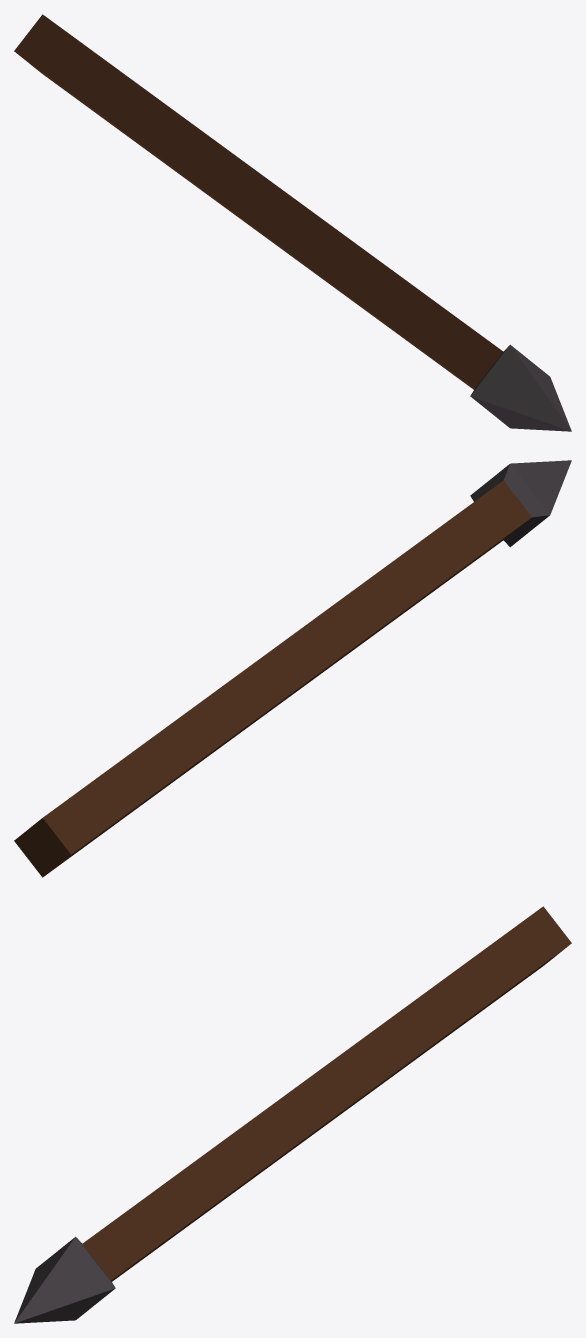
File: CrossbowBolt.fbx
3 views of the same model, one above another, from view 1: azimuth 30°, elevation 25°; view 2: azimuth 150°, elevation 25°; view 3: azimuth 330°, elevation 25° (orthographic).
Visible parts, largest first — view 1: CrossbowBolt; view 2: CrossbowBolt; view 3: CrossbowBolt.
Part boxes in pixels (box(x1,y1,x2,y2)): CrossbowBolt: box(14, 14, 571, 431); CrossbowBolt: box(14, 460, 571, 877); CrossbowBolt: box(14, 906, 571, 1323).
Size of the model in its own units: 0.04 by 0.04 by 0.4571.
